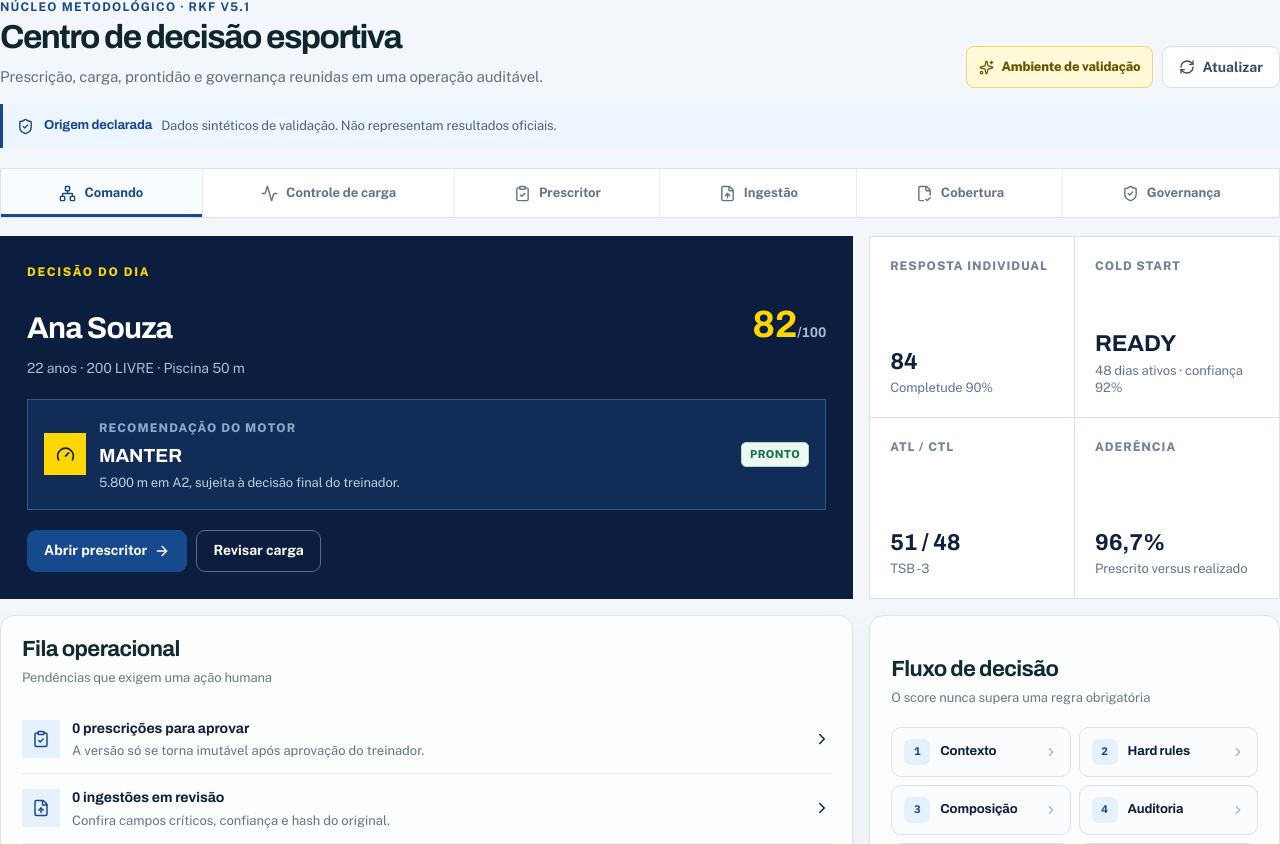
RkfOperations material coverage › separa integridade, ativação e bloqueios reais dos materiais
Click the tab "Cobertura" at (960, 193), box [857, 169, 1063, 217]
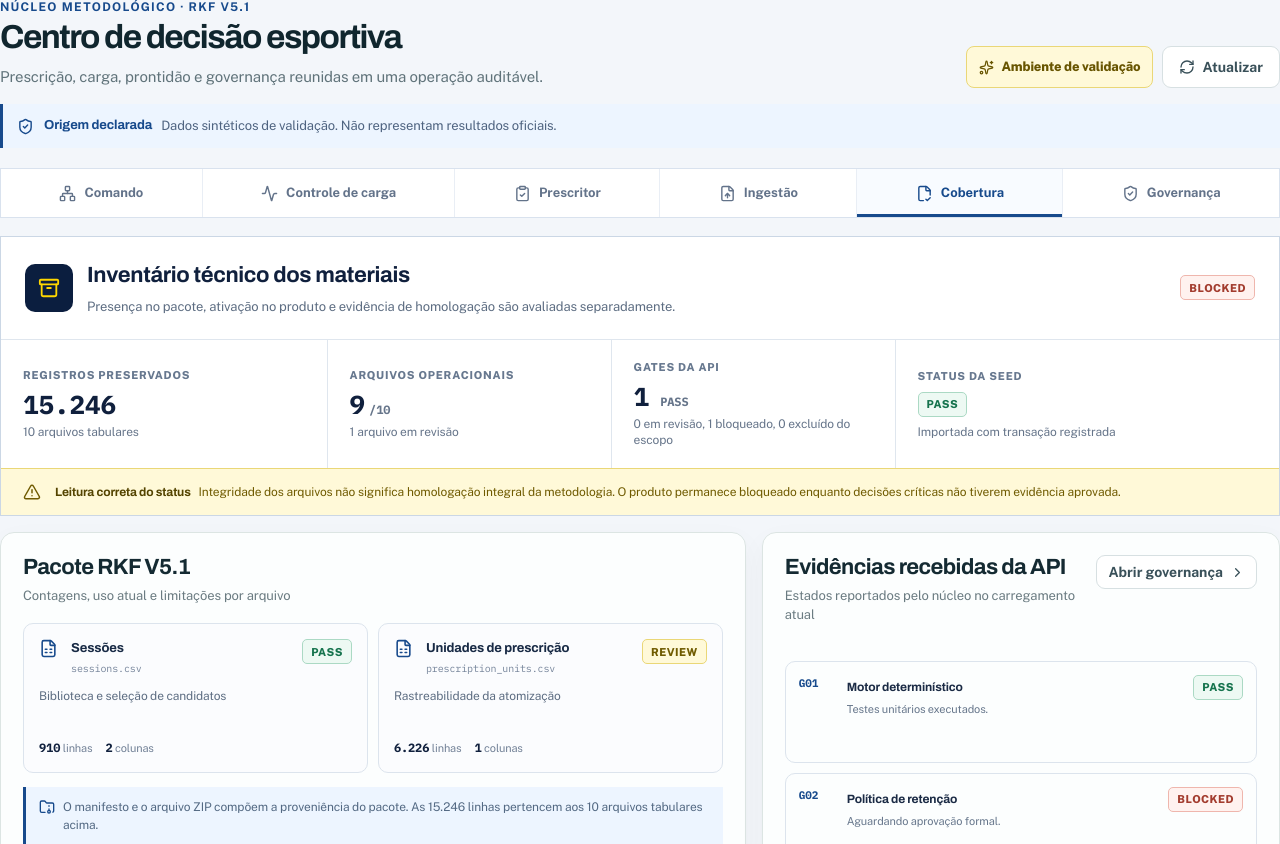
Result: the text "15.246" is shown at [23, 387, 116, 421]
Result: the text "ARQUIVOS OPERACIONAIS" is shown at [350, 369, 514, 381]
Result: the text "9" is shown at [350, 387, 365, 421]
